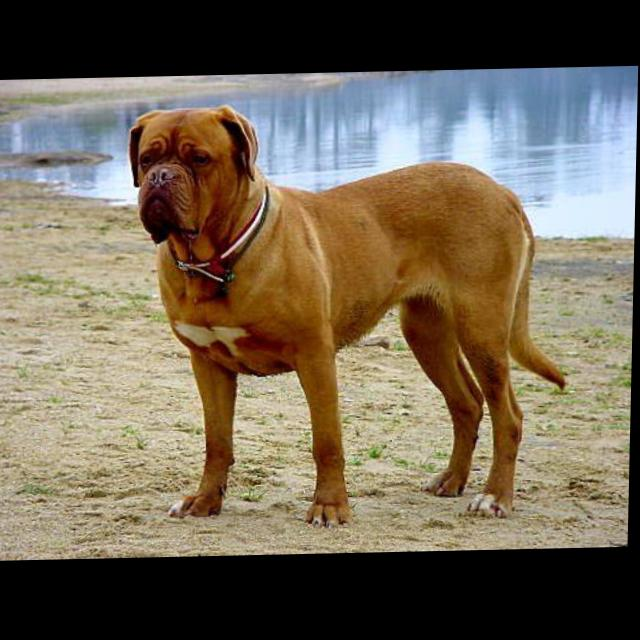dogue_de_bordeaux: (123, 99, 576, 534)
